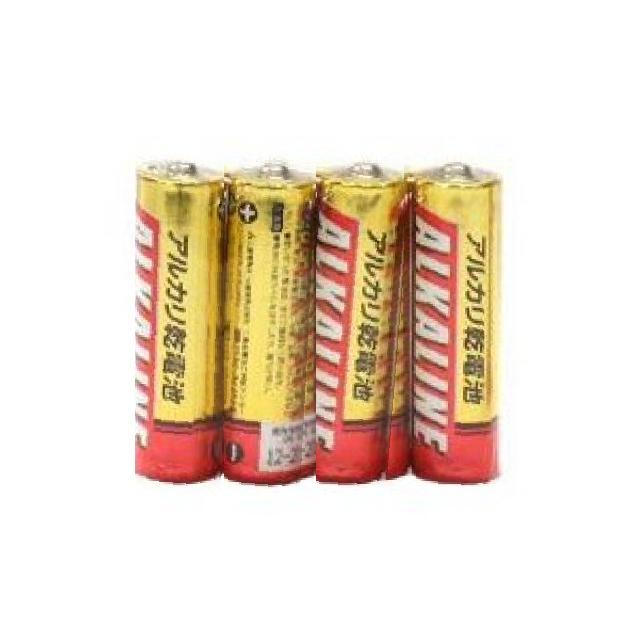battery: (404, 152, 508, 487), (136, 148, 232, 492), (316, 154, 413, 488), (224, 156, 317, 489)
